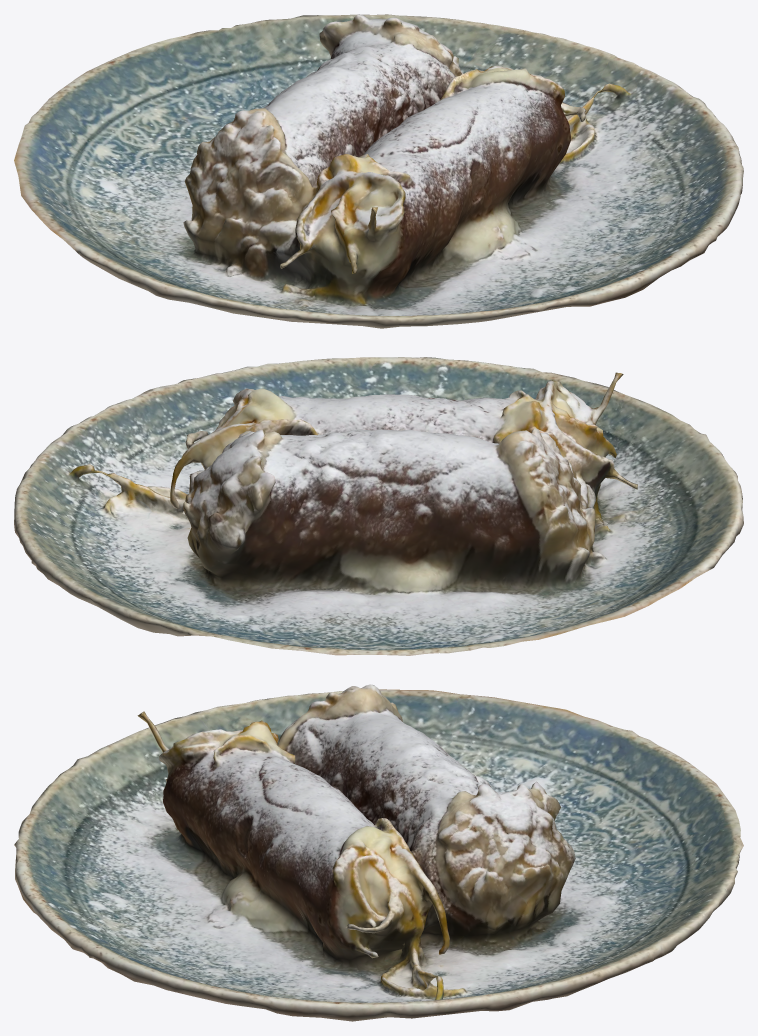
The model's file is cannoli.glb.
The picture shows the model from 3 angles, top to bottom: view 1: azimuth 30°, elevation 25°; view 2: azimuth 150°, elevation 25°; view 3: azimuth 270°, elevation 25°; orthographic projection.
Size of the model in its own units: 0.7811 by 0.1707 by 0.7764.
Materials: 1 (1 with a texture image).
